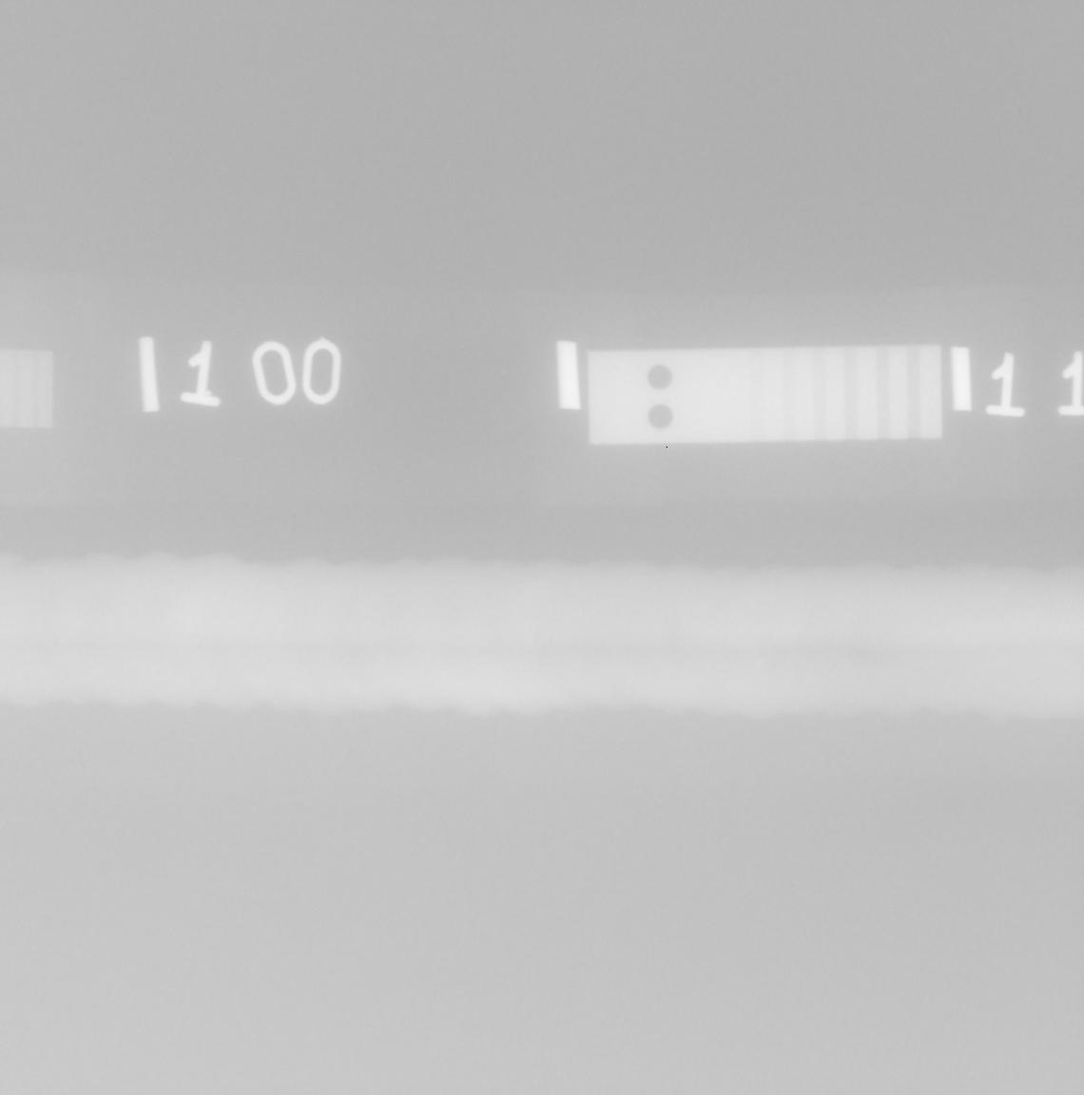Pore/Porosity: (497, 636, 503, 643)
Reference Standard 2: (588, 344, 943, 446)
